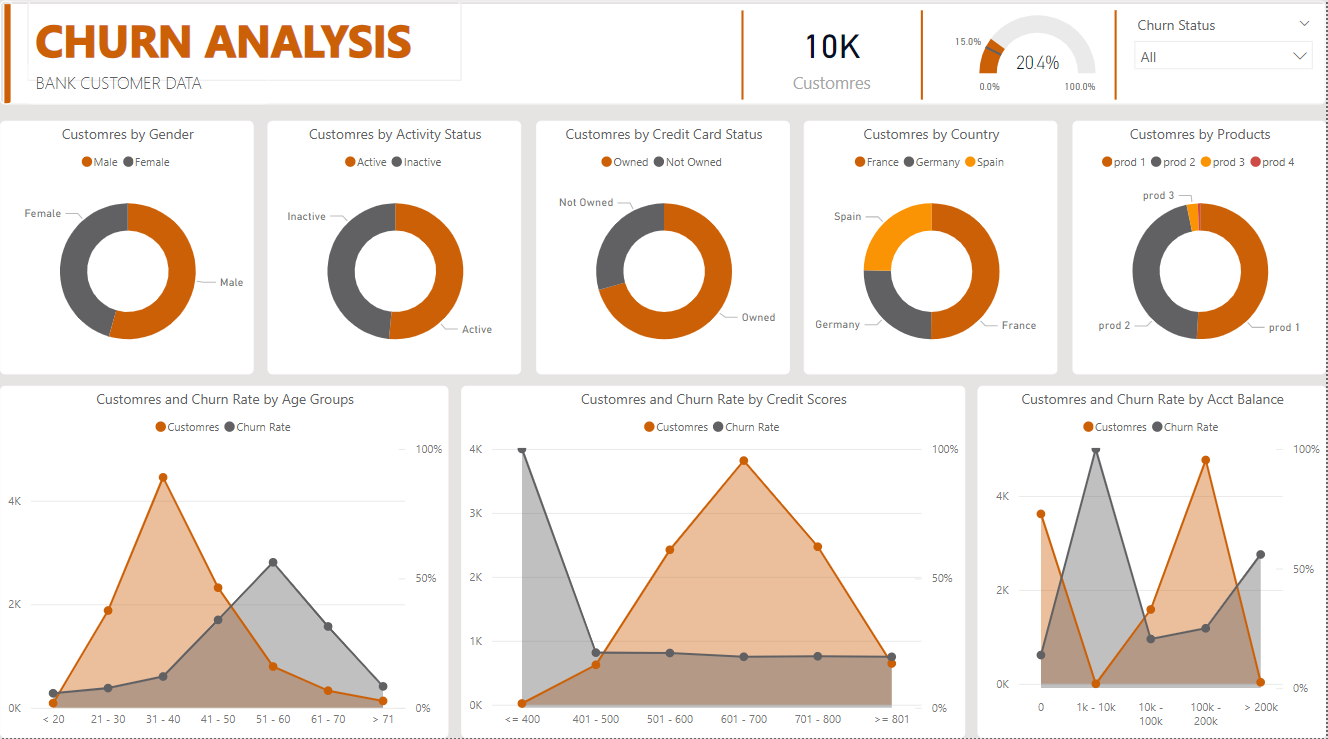

What the dashboard file says about the page in this screenshot:
{"tool":"powerbi","page":{"name":"Churn Analysis","canvas":[1280,720],"ordinal":0},"visuals":[{"type":"shape","box":[0,8.4,1279.6,100.1],"z":0},{"type":"card","fields":{"Values":["Customer Data.Customres"]},"box":[721.2,14.1,160.4,90.5],"z":1000},{"type":"donutChart","fields":{"Category":["Customer Data.Gender"],"Y":["Customer Data.Customres"]},"box":[0,124.7,244.8,244.8],"z":2000},{"type":"donutChart","fields":{"Y":["Customer Data.Customres"],"Category":["Customer Data.Activity Status"]},"box":[258.7,124.7,244.8,244.8],"z":3000},{"type":"donutChart","fields":{"Y":["Customer Data.Customres"],"Category":["Customer Data.Credit Card Status"]},"box":[517.4,124.7,244.8,244.8],"z":4000},{"type":"donutChart","fields":{"Y":["Customer Data.Customres"],"Category":["Customer Data.Country"]},"box":[776.1,124.7,244.8,244.8],"z":5000},{"type":"donutChart","fields":{"Y":["Customer Data.Customres"],"Category":["Customer Data.Products"]},"box":[1034.8,124.7,244.8,244.8],"z":6000},{"type":"areaChart","fields":{"Category":["Age Groups.Age Groups"],"Y":["Customer Data.Customres"],"Y2":["Customer Data.Churn Rate"]},"box":[0,379.9,433,340.1],"z":7000},{"type":"areaChart","fields":{"Category":["Credit Score Groups.Credit Scores"],"Y":["Customer Data.Customres"],"Y2":["Customer Data.Churn Rate"]},"box":[445,379.9,486,340.1],"z":8000},{"type":"areaChart","fields":{"Category":["Acct Balance Groups.Acct Balance"],"Y":["Customer Data.Customres"],"Y2":["Customer Data.Churn Rate"]},"box":[943.1,379.9,336.5,340.1],"z":9000},{"type":"slicer","fields":{"Values":["Customer Data.Churn Status"]},"box":[1081.8,14.1,197.8,90.5],"z":10000},{"type":"gauge","fields":{"Y":["Customer Data.Churn Rate"],"MinValue":["Min(Customer Data.Min Churn Rate)"],"MaxValue":["Max(Customer Data.Max Churn Rate)"],"TargetValue":["Max(Customer Data.Target Churn Rate)"]},"box":[896.1,14.1,179.7,90.5],"z":11000},{"type":"textbox","box":[26.5,8.4,418.5,77.2],"z":12000},{"type":"textbox","box":[26.5,67.5,232.8,41],"z":13000},{"type":"shape","box":[709.1,14.1,12.1,90.5],"z":14000},{"type":"shape","box":[1068.5,14.1,13.3,90.5],"z":15000},{"type":"shape","box":[878,14.1,20.5,90.5],"z":16000},{"type":"shape","box":[0,8.4,12.1,100.1],"z":17000}]}

Visuals, with their boxes in screenshot pixels (x1, y1, x2, y2), scaled from the page's 1280x720 canvas onto the 1328x739 screenshot:
shape: <region>0, 9, 1327, 111</region>
card - Customer Data.Customres: <region>748, 14, 915, 107</region>
donutChart - Customer Data.Gender x Customer Data.Customres: <region>0, 128, 254, 379</region>
donutChart - Customer Data.Customres x Customer Data.Activity Status: <region>268, 128, 522, 379</region>
donutChart - Customer Data.Customres x Customer Data.Credit Card Status: <region>537, 128, 791, 379</region>
donutChart - Customer Data.Customres x Customer Data.Country: <region>805, 128, 1059, 379</region>
donutChart - Customer Data.Customres x Customer Data.Products: <region>1074, 128, 1327, 379</region>
areaChart - Age Groups.Age Groups x Customer Data.Customres: <region>0, 390, 449, 738</region>
areaChart - Credit Score Groups.Credit Scores x Customer Data.Customres: <region>462, 390, 966, 738</region>
areaChart - Acct Balance Groups.Acct Balance x Customer Data.Customres: <region>978, 390, 1327, 738</region>
slicer - Customer Data.Churn Status: <region>1122, 14, 1327, 107</region>
gauge - Customer Data.Churn Rate x Min(Customer Data.Min Churn Rate): <region>930, 14, 1116, 107</region>
textbox: <region>27, 9, 462, 88</region>
textbox: <region>27, 69, 269, 111</region>
shape: <region>736, 14, 748, 107</region>
shape: <region>1109, 14, 1122, 107</region>
shape: <region>911, 14, 932, 107</region>
shape: <region>0, 9, 13, 111</region>
